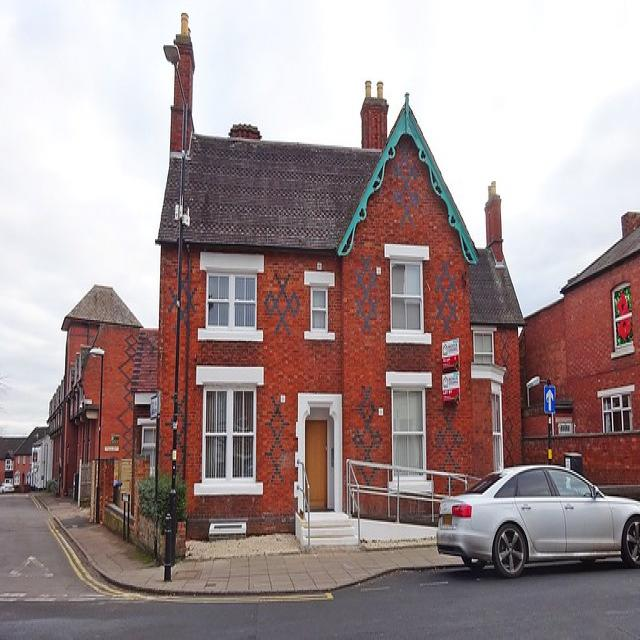Normal_building: (151, 24, 531, 558)
